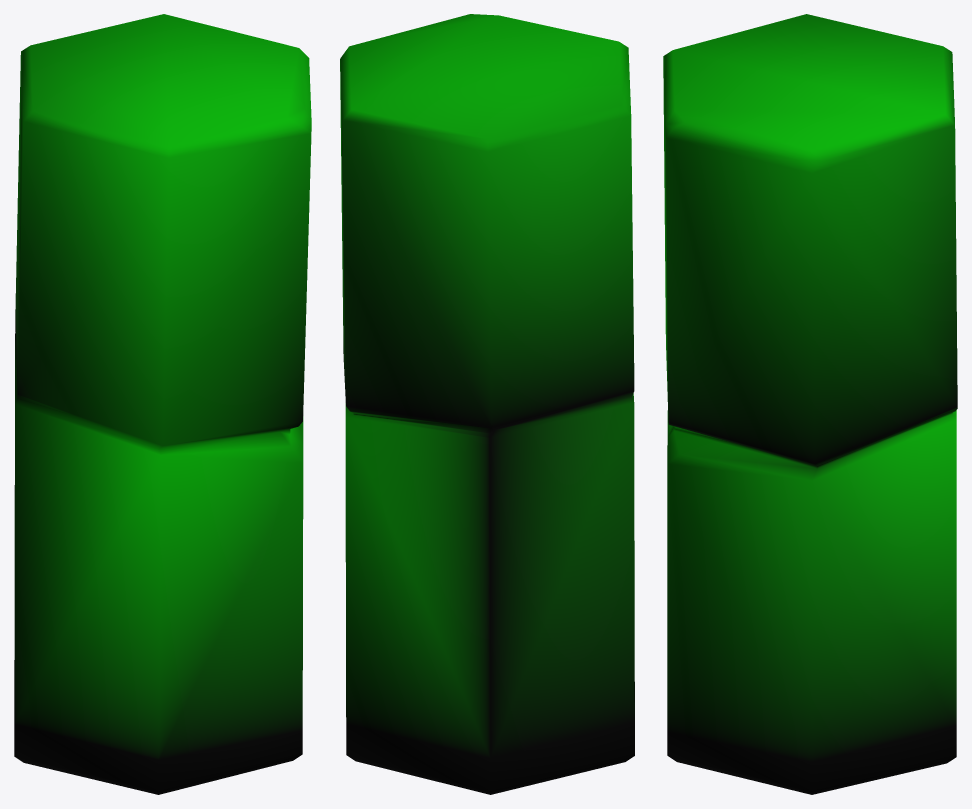
Rendered from SM_RockHexic_Piece11.fbx.
3 renders of one model, left to right at view 1: azimuth 30°, elevation 25°; view 2: azimuth 150°, elevation 25°; view 3: azimuth 270°, elevation 25°, orthographic.
Visible parts, largest first — view 1: SM_RockHexic_Piece11; view 2: SM_RockHexic_Piece11; view 3: SM_RockHexic_Piece11.
Part boxes in pixels (x1=…): SM_RockHexic_Piece11: x1=14, y1=14, x2=311, y2=794; SM_RockHexic_Piece11: x1=340, y1=14, x2=634, y2=794; SM_RockHexic_Piece11: x1=663, y1=14, x2=957, y2=794.
Bounding box in the file's own units: 433 × 374 × 916.
